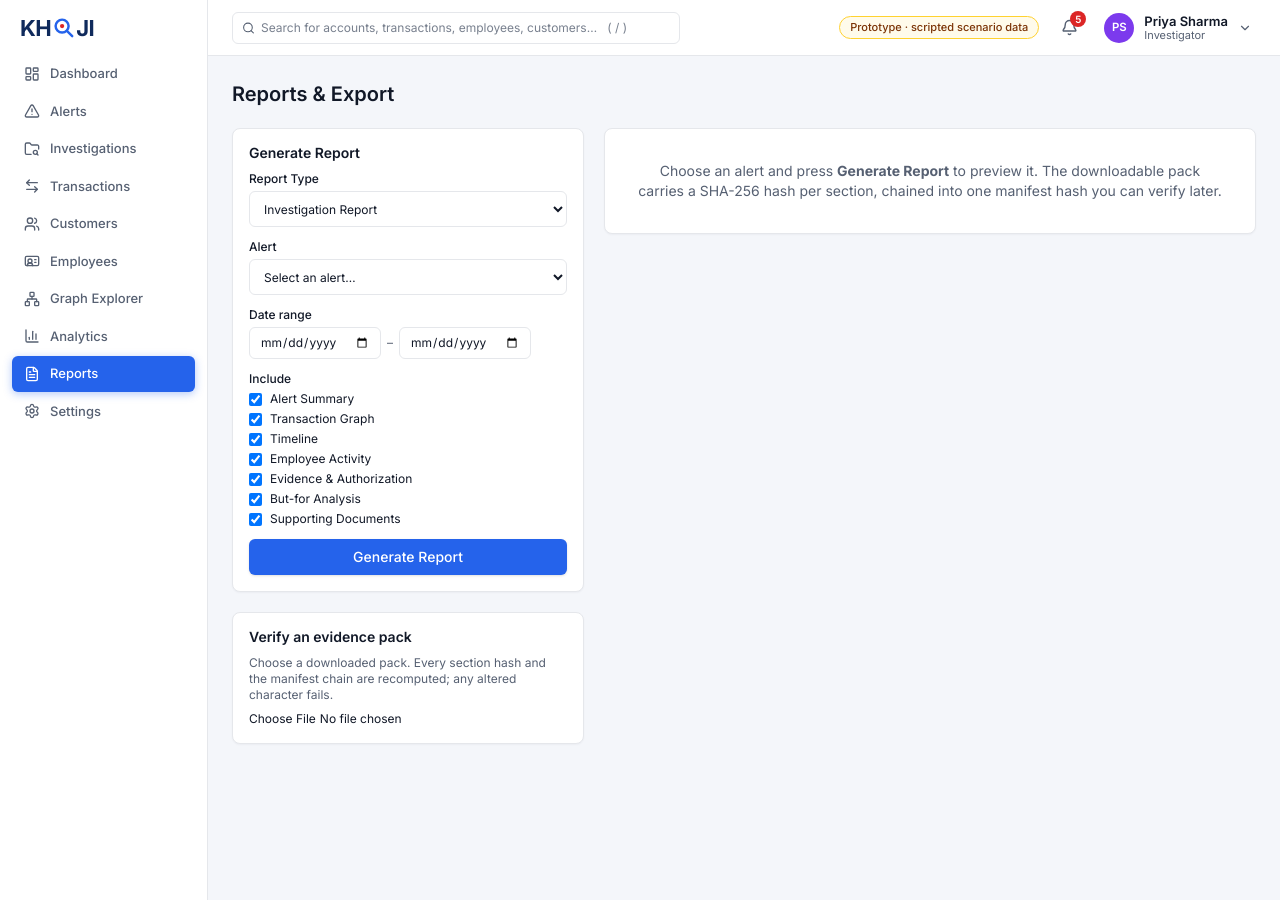
it: Reports page › SUMMARY alerts include only the sections that exist for them
Select "ALT-2024-009 – Multi-hop loop across linked accounts" in the dropdown labelled "Alert" at (408, 277), box [249,259,567,295]
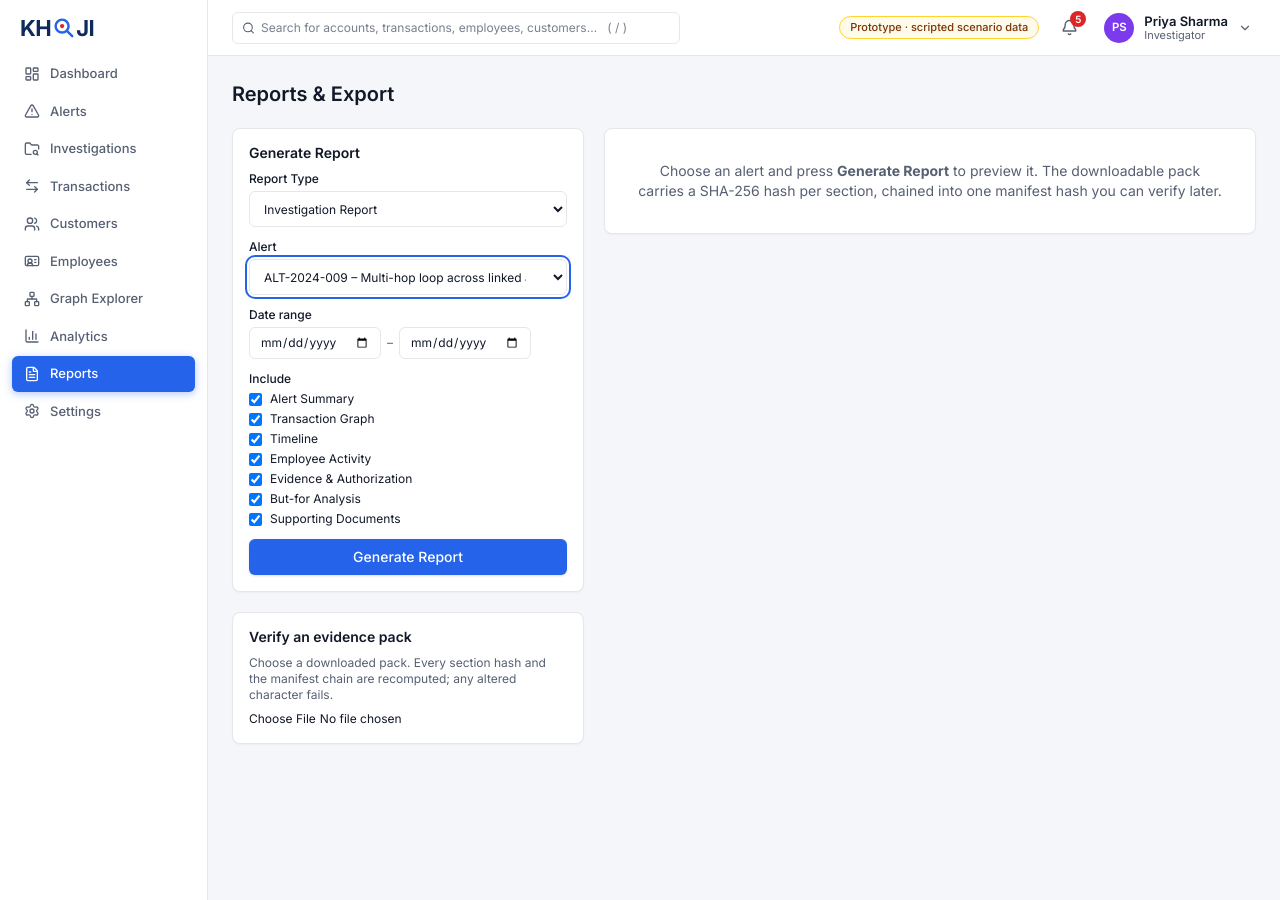
Click the button "Generate Report" at (408, 557), box [249,539,567,575]
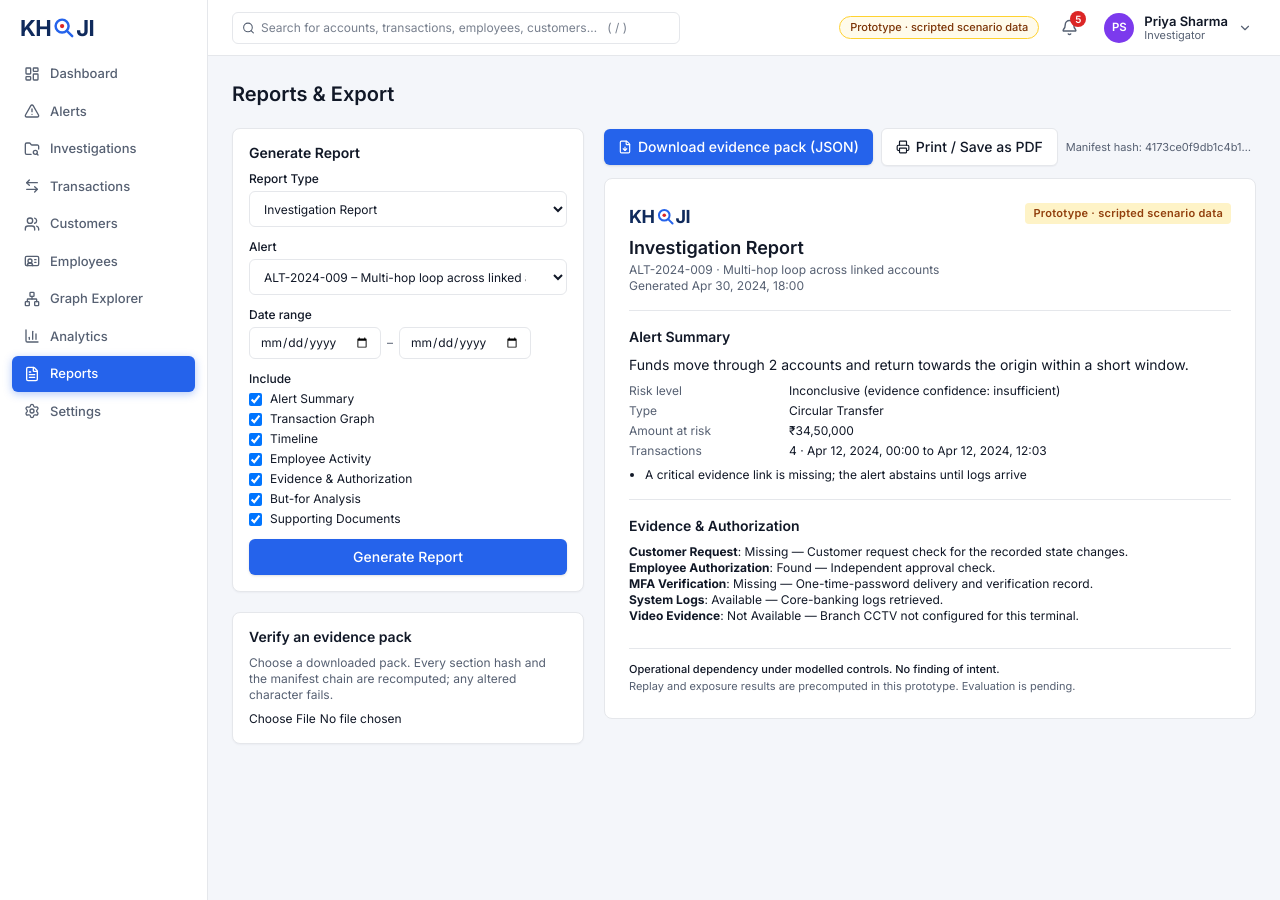
Expected: the element "Evidence & Authorization" is shown, [629,499,1231,648]
